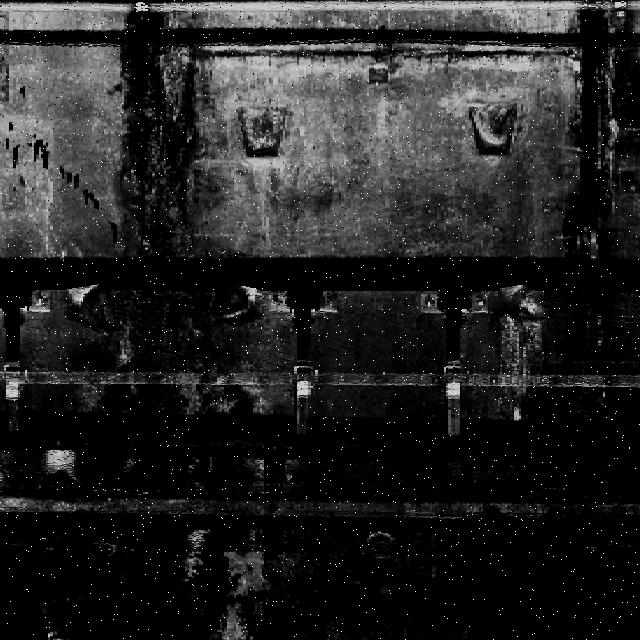leakage: (464, 289, 639, 637), (7, 454, 274, 635), (89, 3, 242, 263), (56, 287, 262, 416), (560, 1, 639, 258)
